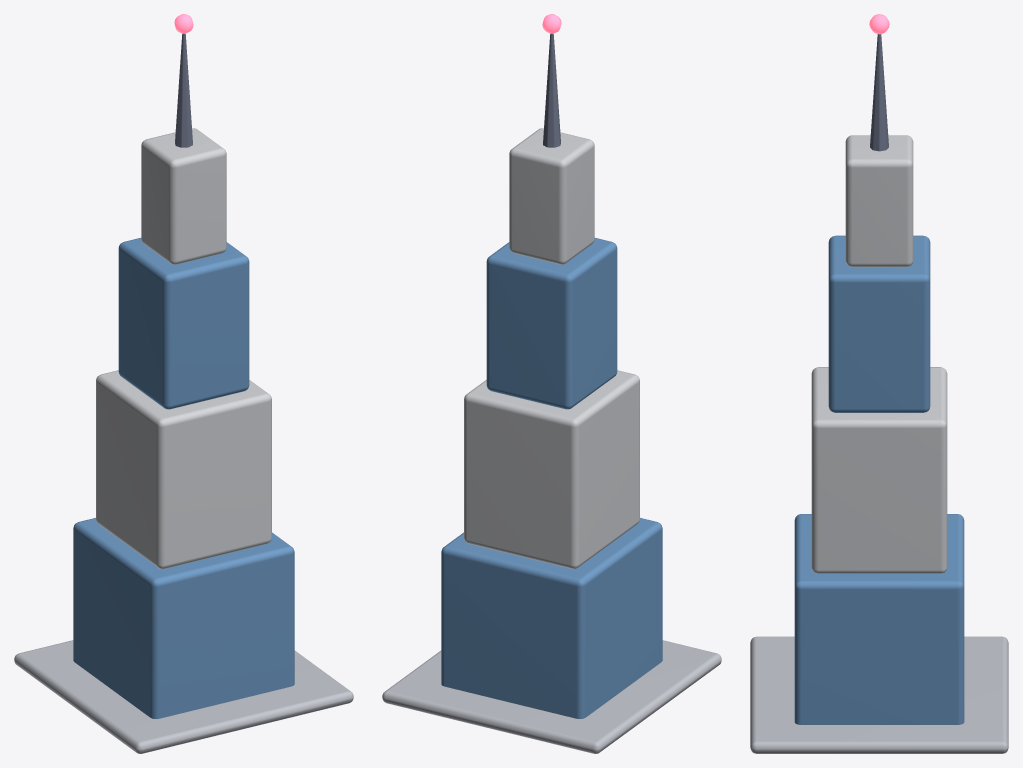
The picture shows the model from 3 angles, left to right: view 1: azimuth 30°, elevation 25°; view 2: azimuth 150°, elevation 25°; view 3: azimuth 270°, elevation 25°; orthographic projection. The views are drawn at different scales.
Visible parts, largest first — view 1: Cube; view 2: Cube; view 3: Cube.
Part boxes in pixels (x1,y1,x2,y2): Cube: (14,14,353,753); Cube: (382,14,721,753); Cube: (750,14,1008,753).
Bounding box in the file's own units: 0.76 × 2.23 × 0.76.
